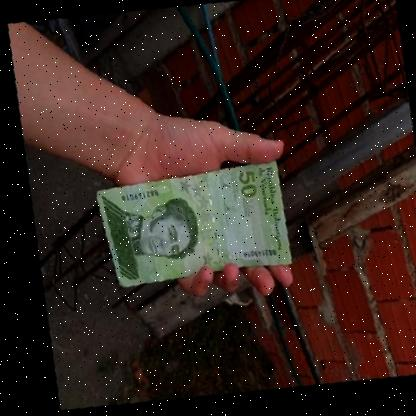fifty-front-vef: (90, 161, 292, 296)
